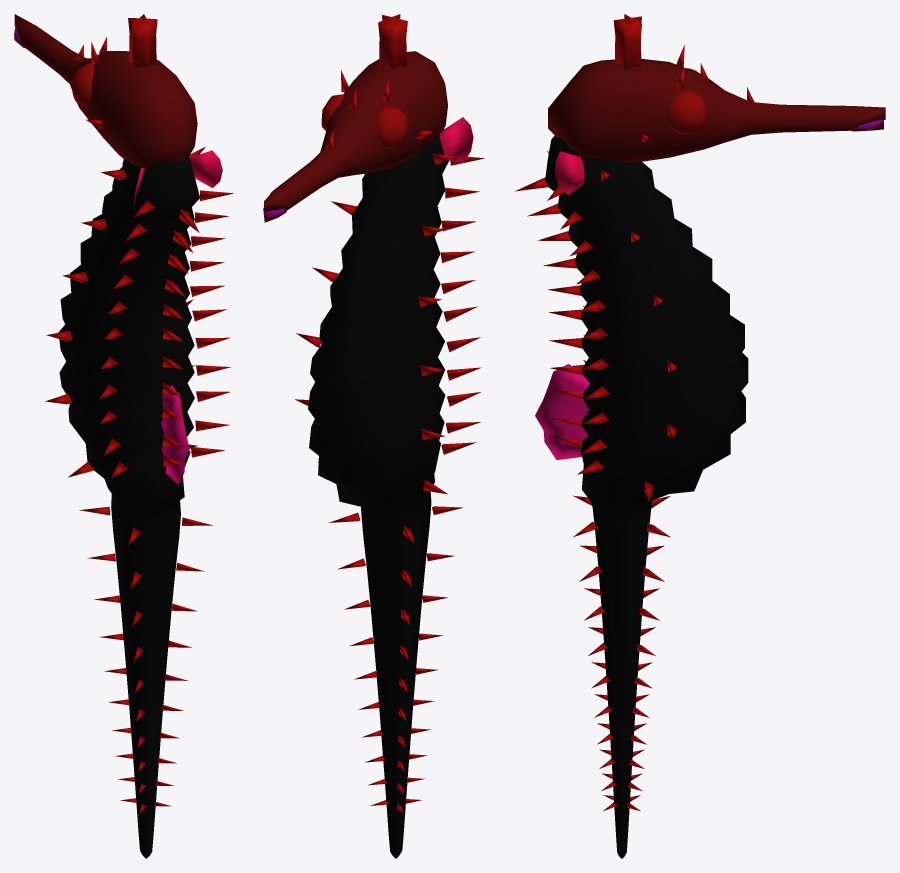
The model's file is seahorse_spiny_game.glb.
The picture shows the model from 3 angles, left to right: view 1: azimuth 30°, elevation 25°; view 2: azimuth 150°, elevation 25°; view 3: azimuth 270°, elevation 25°; orthographic projection.
Visible parts, largest first — view 1: seahorse_spiny_game; view 2: seahorse_spiny_game; view 3: seahorse_spiny_game.
Boxes of the visible parts, <box> form: seahorse_spiny_game: <box>14,14,233,858</box>; seahorse_spiny_game: <box>263,14,484,858</box>; seahorse_spiny_game: <box>515,14,885,858</box>.
Bounding box in the file's own units: 0.0283 × 0.15 × 0.0602.
